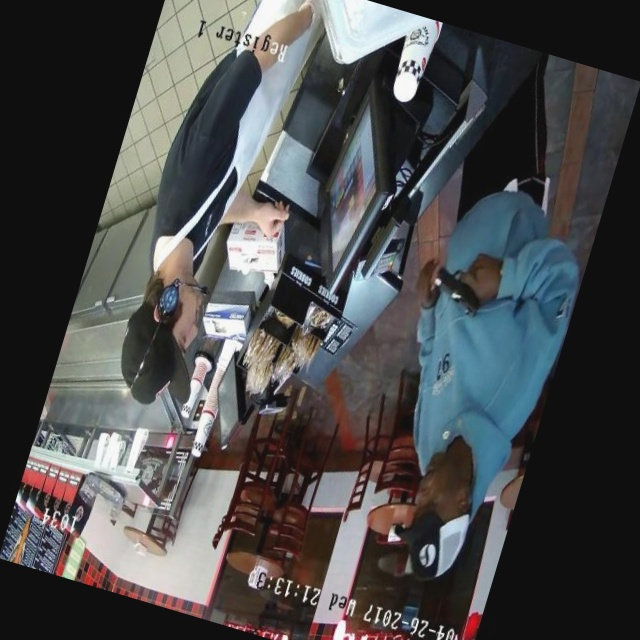gun: (415, 252, 507, 334)
